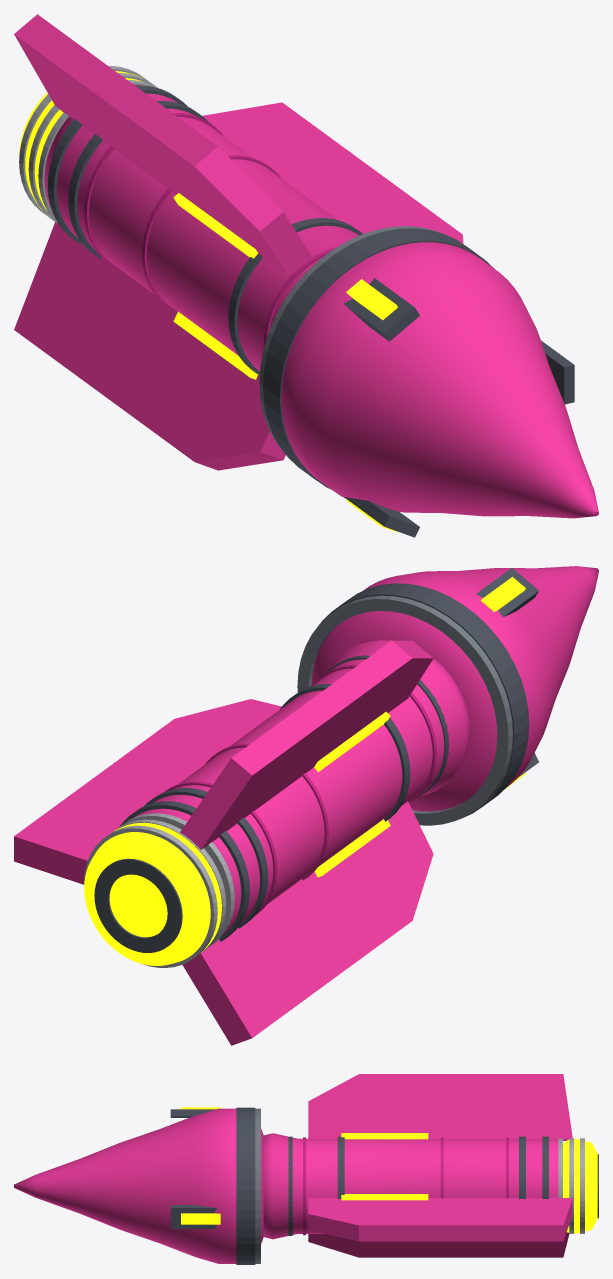
Rendered from cohete_galaxy_combat.glb.
3 views of the same model, one above another, from view 1: azimuth 30°, elevation 25°; view 2: azimuth 150°, elevation 25°; view 3: azimuth 270°, elevation 25° (orthographic). The views are drawn at different scales.
Visible parts, largest first — view 1: warhead, tail_fin_2, body_core, tail_fin_1, tail_fin_0, warhead_black_collar, seam_2, headlamp_mount_1, seam_1, seam_0, warhead_rim_lower, exhaust_nozzle (+10 smaller); view 2: tail_fin_2, body_core, warhead, tail_fin_1, tail_fin_0, exhaust_nozzle, warhead_rim_lower, warhead_black_collar, dark_exhaust_mouth, metal_ring_0, seam_0, metal_ring_2 (+11 smaller); view 3: warhead, body_core, tail_fin_1, tail_fin_0, tail_fin_2, warhead_black_collar, exhaust_nozzle, warhead_rim_lower, headlamp_mount_0, midlamp_mount_0, midlamp_mount_1, seam_3 (+9 smaller).
Part boxes in pixels (x1,y1,x2,y2): warhead: [281, 242, 598, 518]; tail_fin_2: [14, 222, 285, 470]; body_core: [44, 85, 358, 371]; tail_fin_1: [14, 14, 311, 276]; tail_fin_0: [202, 102, 463, 243]; warhead_black_collar: [263, 228, 494, 489]; seam_2: [228, 218, 362, 375]; headlamp_mount_1: [344, 278, 419, 341]; seam_1: [68, 100, 210, 259]; seam_0: [47, 85, 187, 244]; warhead_rim_lower: [259, 226, 440, 450]; exhaust_nozzle: [19, 71, 143, 214]; tail_fin_2: [182, 801, 433, 1045]; body_core: [134, 639, 469, 936]; warhead: [311, 566, 598, 811]; tail_fin_1: [180, 640, 433, 849]; tail_fin_0: [14, 699, 281, 884]; exhaust_nozzle: [84, 822, 221, 965]; warhead_rim_lower: [297, 595, 512, 825]; warhead_black_collar: [321, 583, 529, 818]; dark_exhaust_mouth: [94, 858, 182, 952]; metal_ring_0: [84, 825, 217, 967]; seam_0: [119, 801, 249, 941]; metal_ring_2: [120, 813, 234, 946]; warhead: [14, 1108, 263, 1263]; body_core: [263, 1133, 558, 1239]; tail_fin_1: [308, 1074, 572, 1140]; tail_fin_0: [308, 1198, 572, 1241]; tail_fin_2: [308, 1232, 569, 1257]; warhead_black_collar: [236, 1107, 255, 1264]; exhaust_nozzle: [563, 1138, 597, 1233]; warhead_rim_lower: [255, 1108, 260, 1263]; headlamp_mount_0: [170, 1205, 216, 1228]; midlamp_mount_0: [341, 1194, 428, 1200]; midlamp_mount_1: [341, 1133, 428, 1139]; seam_3: [288, 1136, 292, 1235].
Size of the model in its own units: 1.4 by 1.49 by 4.29.
